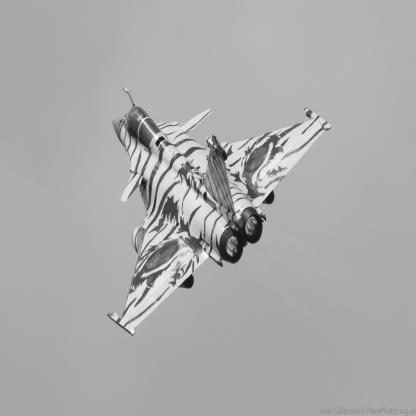Rafale: (107, 88, 332, 337)
